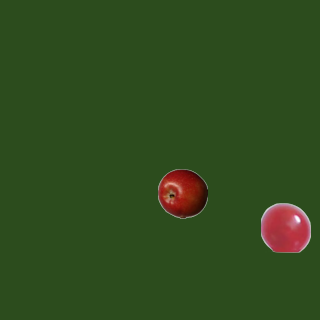Apple Braeburn: (157, 168, 207, 218)
Redcurrant: (260, 202, 310, 252)
